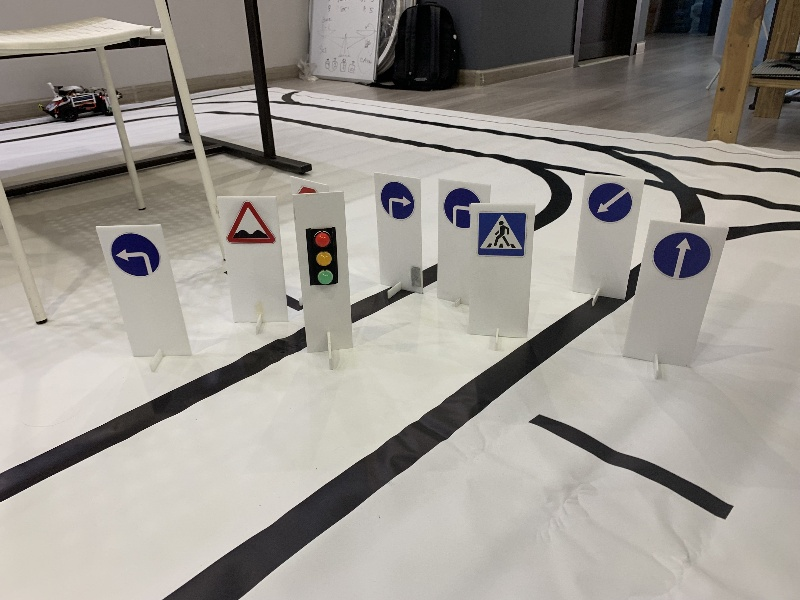Left: (108, 232, 162, 278)
Nerov: (227, 198, 276, 249)
Right: (441, 185, 476, 229), (377, 180, 414, 219)
forw: (653, 232, 710, 277)
pesh: (474, 210, 527, 258)
prep: (586, 183, 634, 221)
